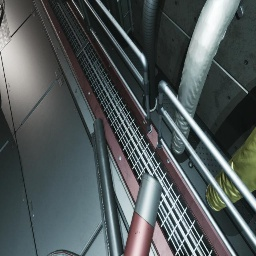NitrogenTank ,: (123, 172, 162, 256)
